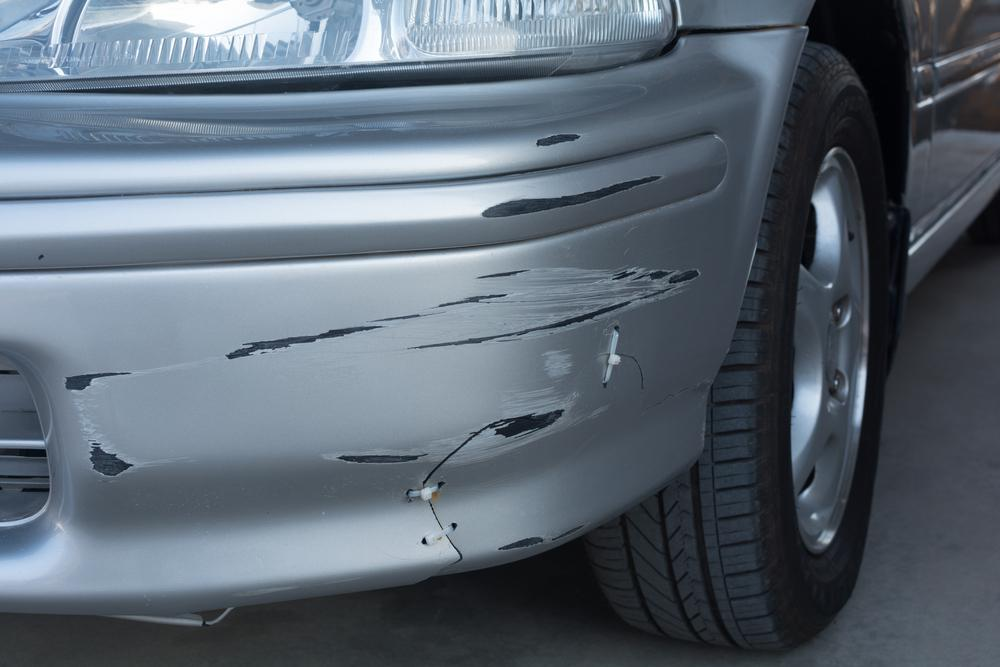crack: (413, 415, 503, 581)
scratch: (63, 248, 705, 481), (478, 171, 673, 225), (496, 516, 589, 557), (532, 128, 592, 152)
